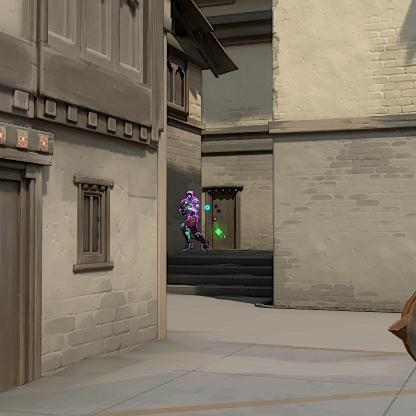enemyBody: (187, 200, 194, 219)
enemyHead: (187, 193, 192, 199)
